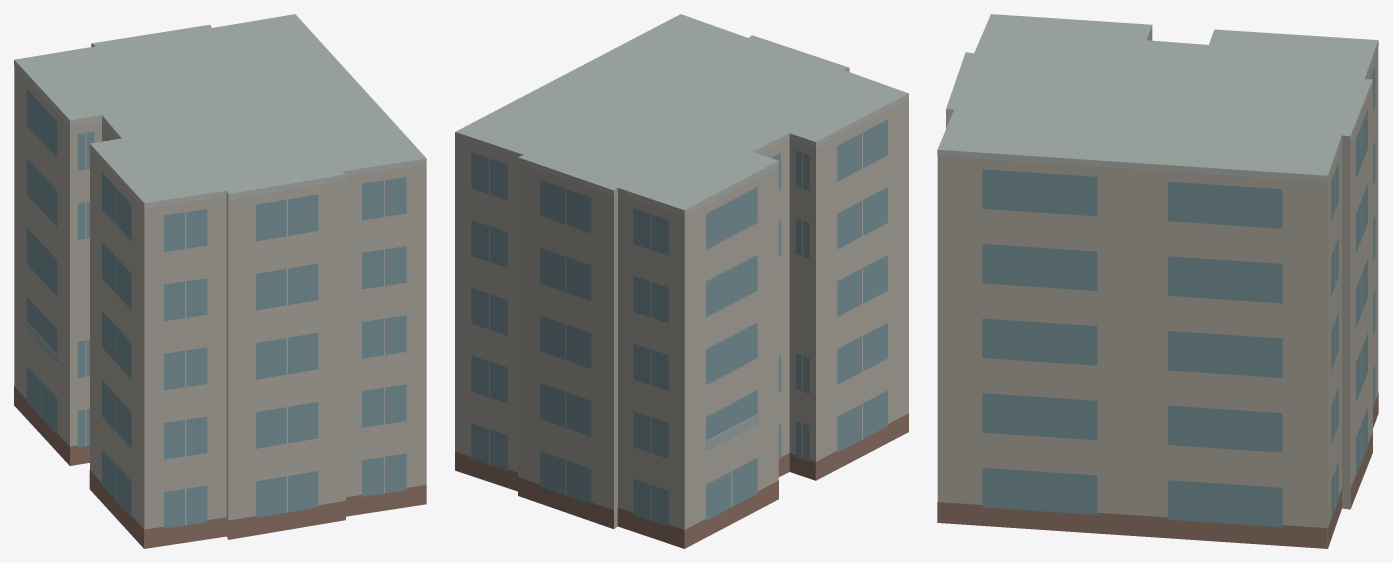
The model's file is survey-upis-32690097.glb.
The picture shows the model from 3 angles, left to right: view 1: azimuth 30°, elevation 25°; view 2: azimuth 150°, elevation 25°; view 3: azimuth 270°, elevation 25°; orthographic projection. The views are drawn at different scales.
Visible parts, largest first — view 1: survey-upis-32690097.tmp; view 2: survey-upis-32690097.tmp; view 3: survey-upis-32690097.tmp.
Part boxes in pixels (left/top/right/bottom): survey-upis-32690097.tmp: left=14, top=14, right=426, bottom=548; survey-upis-32690097.tmp: left=455, top=14, right=908, bottom=548; survey-upis-32690097.tmp: left=937, top=14, right=1378, bottom=548.
Size of the model in its own units: 13.59 by 14.6 by 15.65.
